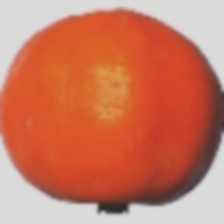tangerine: (39, 46, 211, 221)
